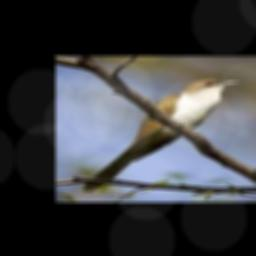Cuckoo: (81, 79, 241, 191)
